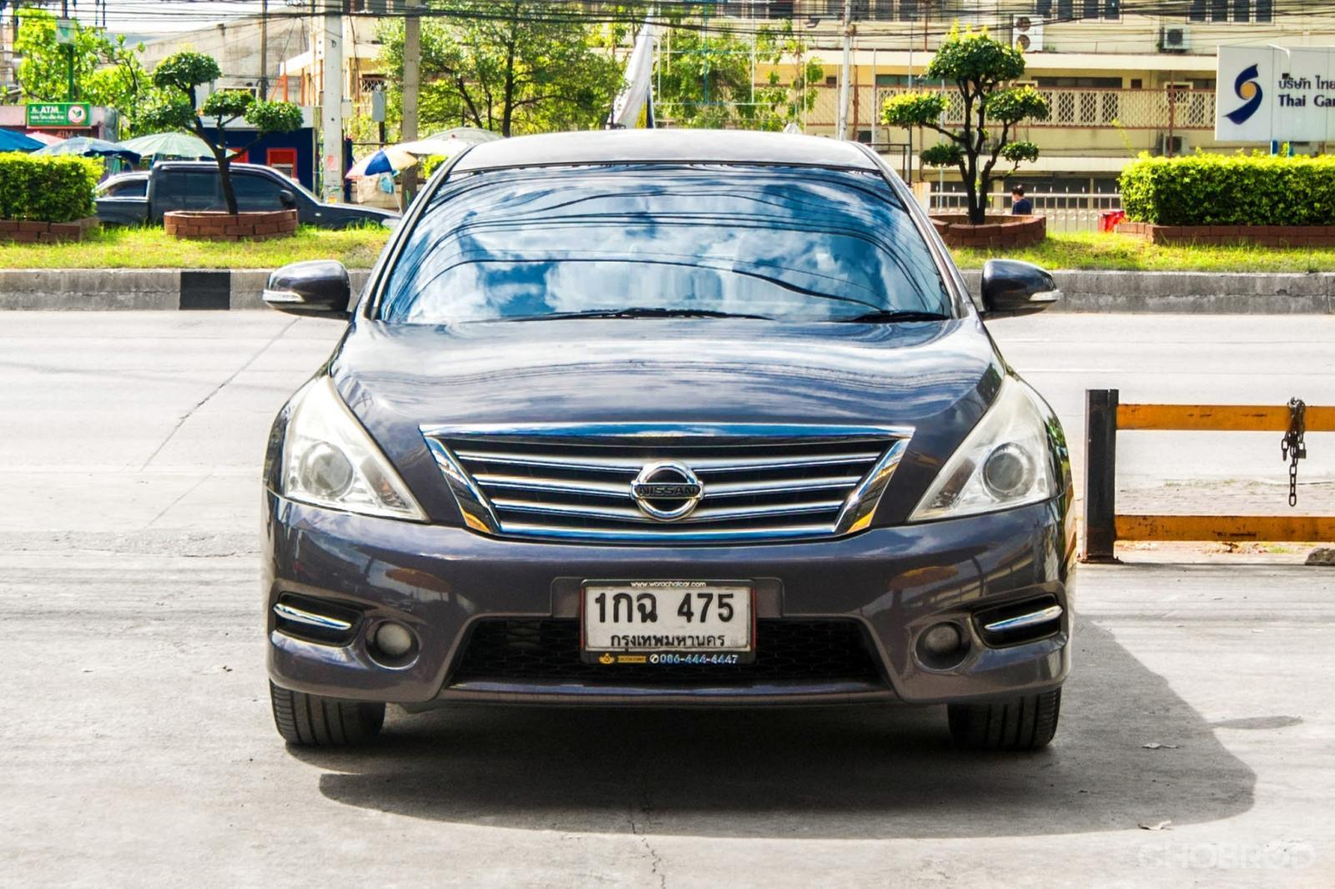license-plate: (569, 572, 764, 670)
